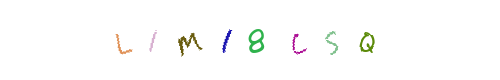1: (209, 0, 289, 80)
8: (216, 0, 296, 80)
C: (225, 0, 305, 80)
I: (186, 0, 266, 80)
L: (81, 0, 161, 80)
M: (191, 0, 271, 80)
Q: (256, 0, 336, 80)
S: (252, 0, 332, 80)
